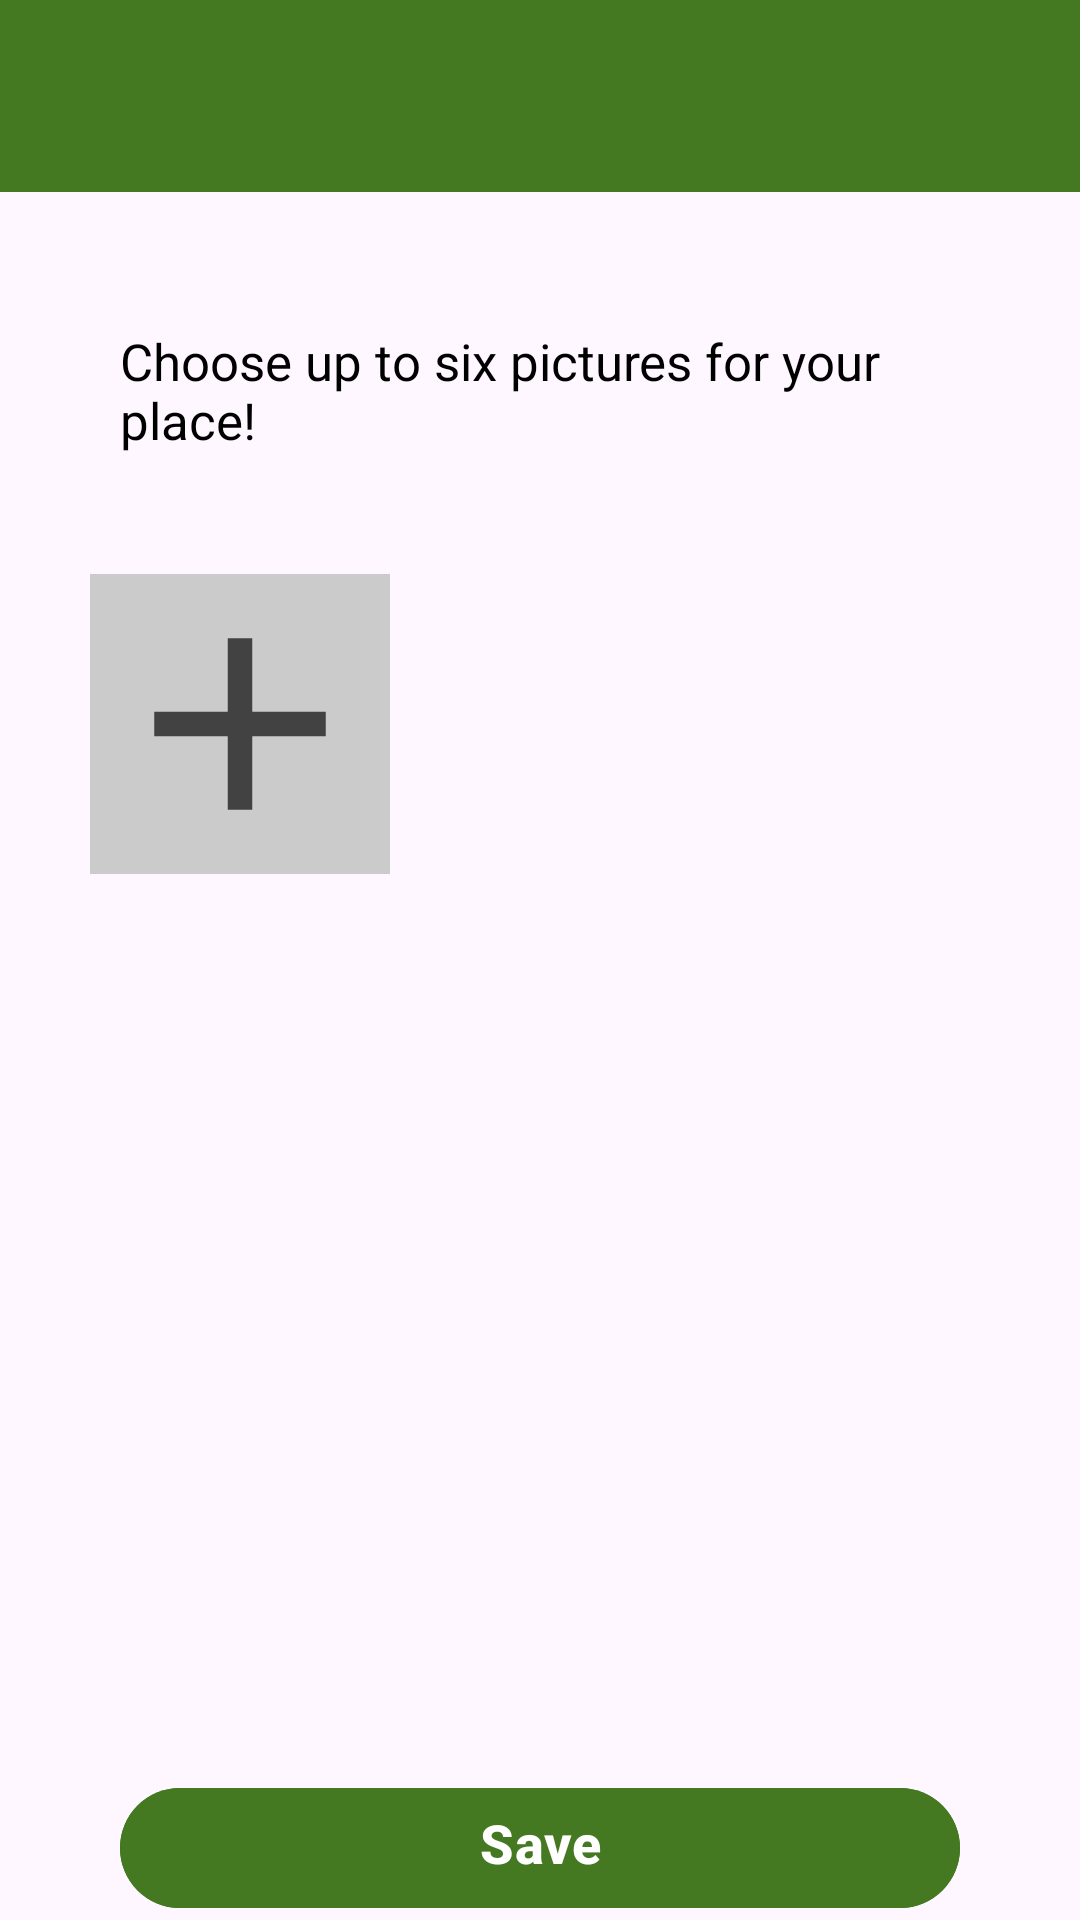

Named icons in this screenshot (1080px x 1920px) and their bounding boxes, (x1, y1, x2, y2):
add: (90, 574, 390, 874)
